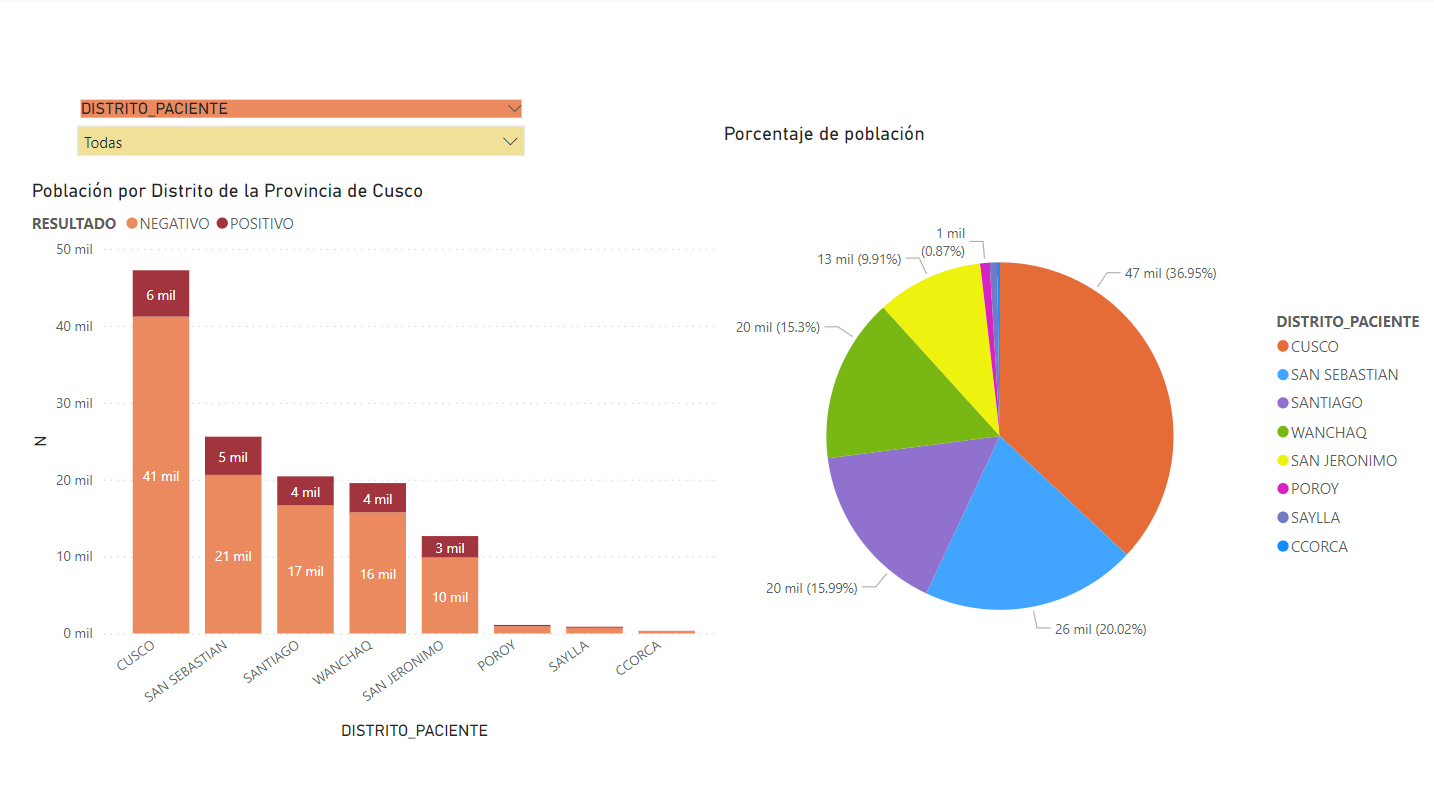

Layout of this report page (visuals, bound fields, positions):
{"tool":"powerbi","page":{"name":"Página 3","canvas":[1280,720],"ordinal":2},"visuals":[{"type":"columnChart","title":"Población por Distrito de la Provincia de Cusco","fields":{"Category":["Tabla2.DISTRITO_PACIENTE"],"Y":["Sum(Tabla2.N)"],"Series":["Tabla2.RESULTADO"]},"box":[26.9,161.3,624.9,502.3],"z":0},{"type":"pieChart","title":"Porcentaje de población","fields":{"Category":["Tabla2.DISTRITO_PACIENTE"],"Y":["Sum(Tabla2.N)"]},"box":[640,110.9,640,537.5],"z":1000},{"type":"slicer","fields":{"Values":["Tabla2.DISTRITO_PACIENTE"]},"box":[62.2,85.7,416.6,62.2],"z":2000}]}

Visuals, with their boxes in screenshot pixels (x1, y1, x2, y2), scaled from the page's 1280x720 canvas onto the 1434x787 screenshot:
"Población por Distrito de la Provincia de Cusco" columnChart: left=30, top=176, right=730, bottom=725
"Porcentaje de población" pieChart: left=717, top=121, right=1433, bottom=709
slicer - Tabla2.DISTRITO_PACIENTE: left=70, top=94, right=536, bottom=162
